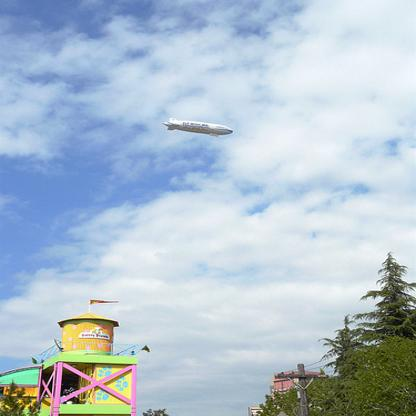Airship: (161, 116, 240, 144)
